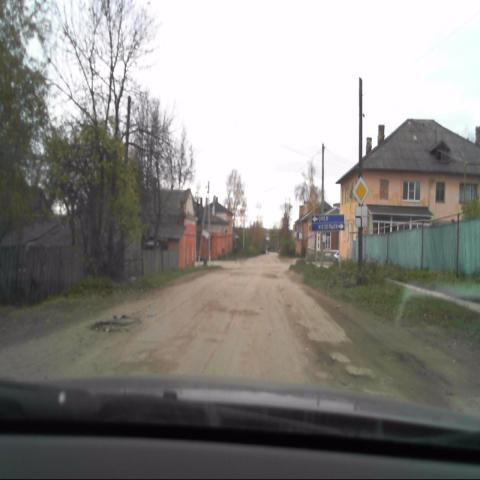2_1: (352, 178, 369, 206)
8_13: (354, 205, 369, 228)
